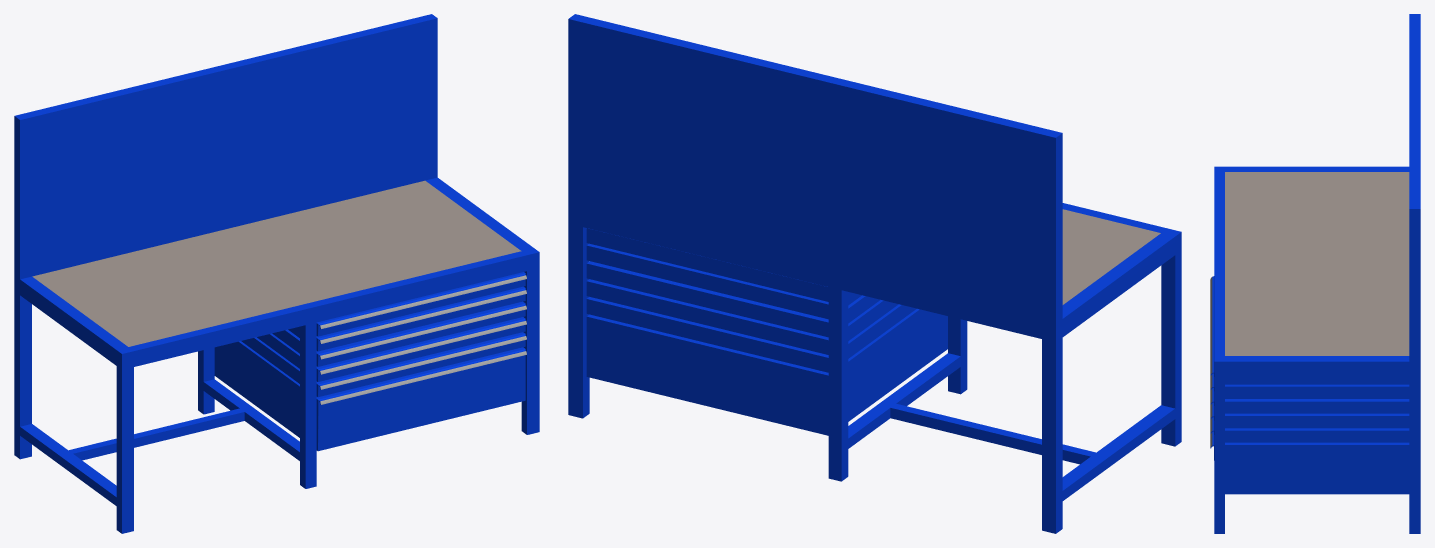
File: tool_bench.fbx
3 renders of one model, left to right at view 1: azimuth 30°, elevation 25°; view 2: azimuth 150°, elevation 25°; view 3: azimuth 270°, elevation 25°, orthographic. The views are drawn at different scales.
Parts seen in each view (by area): view 1: pCube2, pCube8, pCube7, pCube6, pCube5, pCube4, pCube3; view 2: pCube2, pCube8, pCube7, pCube6, pCube5, pCube4, pCube3; view 3: pCube2, pCube8, pCube6, pCube5, pCube7, pCube4, pCube3.
Boxes of the visible parts, box(x1,y1,x2,y2) form: pCube2: box(14, 14, 539, 533); pCube8: box(214, 341, 526, 451); pCube7: box(241, 332, 526, 397); pCube6: box(257, 317, 526, 381); pCube5: box(272, 301, 526, 366); pCube4: box(288, 286, 526, 351); pCube3: box(316, 272, 526, 336); pCube2: box(568, 14, 1181, 533); pCube8: box(586, 308, 947, 435); pCube7: box(586, 297, 916, 372); pCube6: box(586, 279, 898, 354); pCube5: box(586, 261, 880, 337); pCube4: box(586, 243, 861, 319); pCube3: box(586, 228, 828, 301); pCube2: box(1214, 14, 1420, 533); pCube8: box(1210, 431, 1409, 494); pCube6: box(1210, 402, 1409, 428); pCube5: box(1210, 388, 1409, 413); pCube7: box(1210, 417, 1409, 442); pCube4: box(1210, 373, 1409, 398); pCube3: box(1210, 276, 1409, 384).
Bounding box in the file's own units: 15.21 × 11.81 × 6.92.
